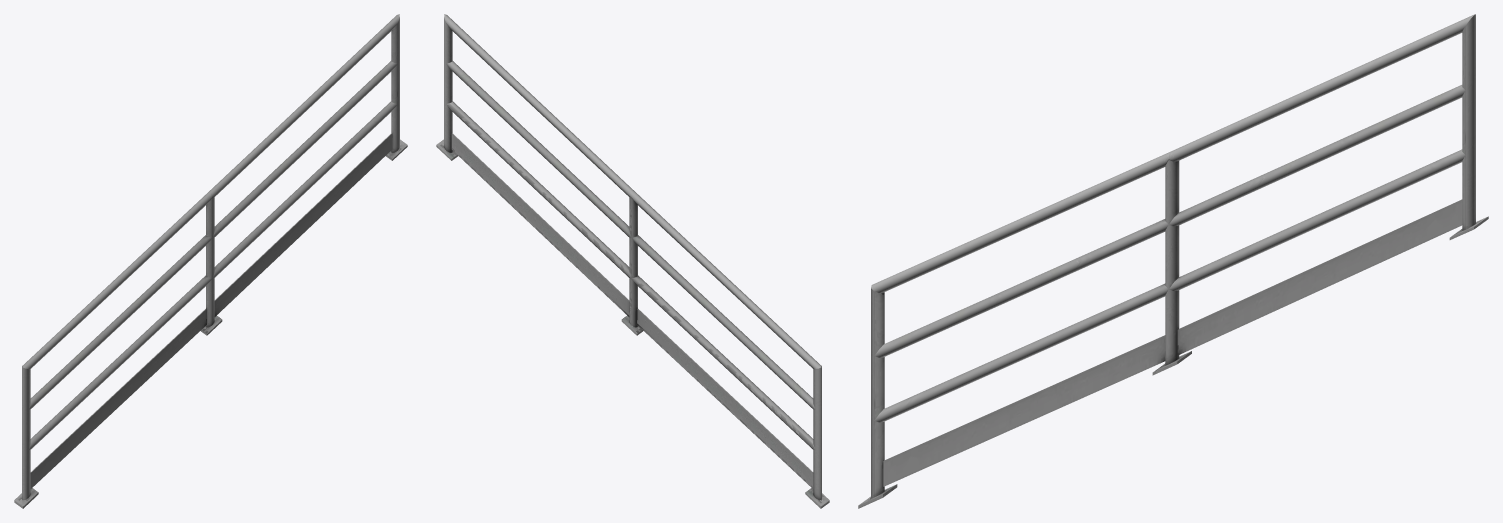
3 views of the same model, side by side, from view 1: azimuth 30°, elevation 25°; view 2: azimuth 150°, elevation 25°; view 3: azimuth 330°, elevation 25° (orthographic). The views are drawn at different scales.
Parts seen in each view (by area): view 1: body0_model0_lod0_mesh0; view 2: body0_model0_lod0_mesh0; view 3: body0_model0_lod0_mesh0.
Part boxes in pixels (x1,y1,x2,y2): body0_model0_lod0_mesh0: (14, 14, 407, 508); body0_model0_lod0_mesh0: (436, 14, 829, 508); body0_model0_lod0_mesh0: (858, 14, 1488, 508).
Size of the model in its own units: 99.62 by 98.68 by 4.
1 material, 1 textured.
